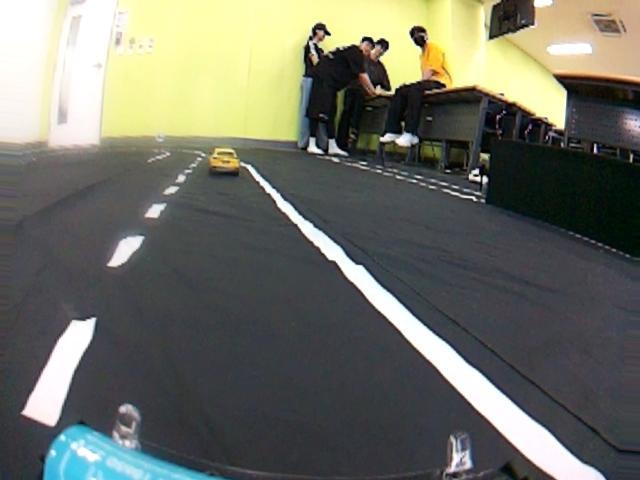car: (207, 148, 240, 177)
straight: (3, 199, 640, 480)
